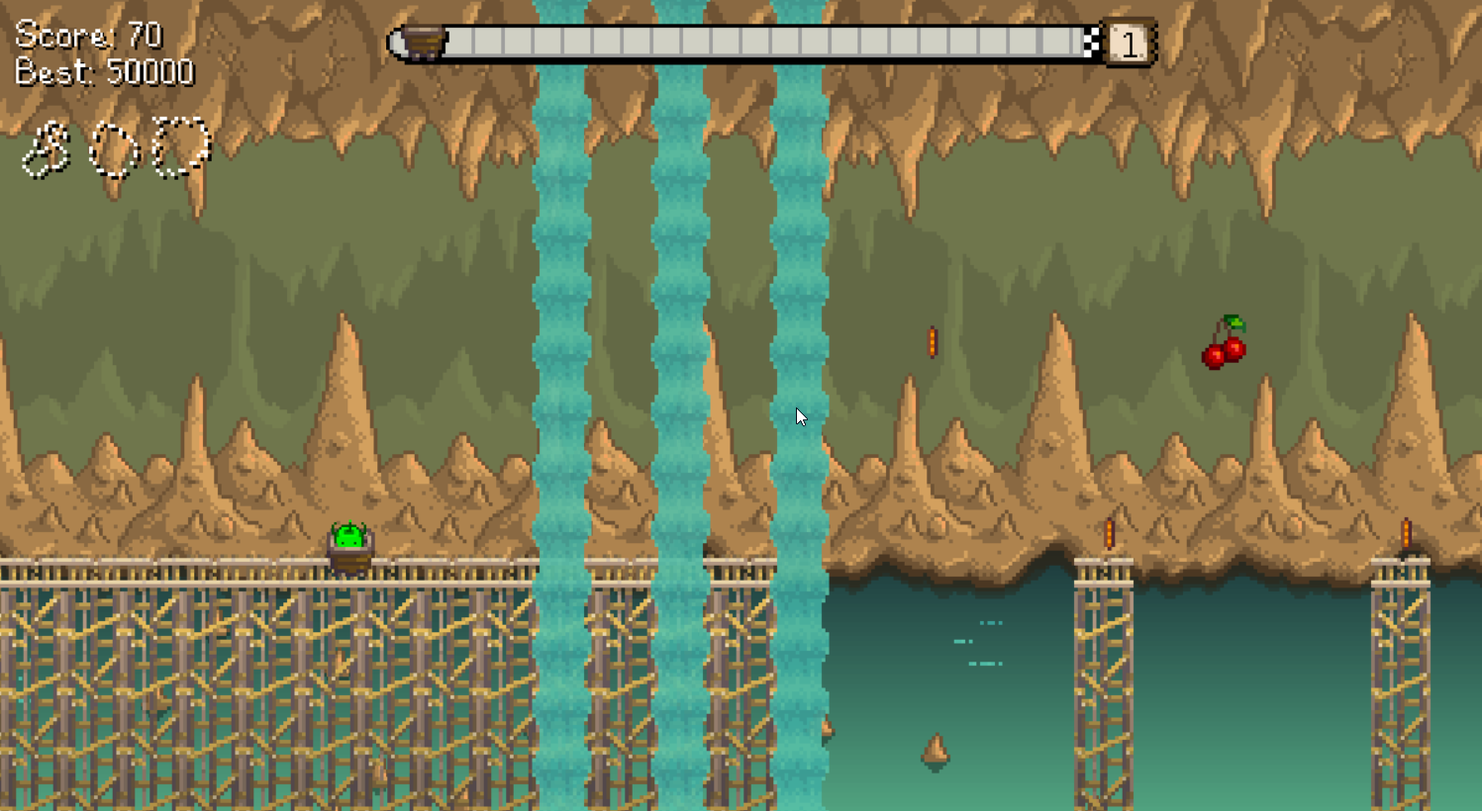cherry: (1195, 300, 1252, 372)
coins: (928, 326, 938, 358), (1105, 518, 1115, 550), (1402, 518, 1411, 551)
minecart: (326, 523, 373, 573)
tracks: (0, 554, 811, 596), (1069, 551, 1140, 596), (1369, 551, 1434, 592)
